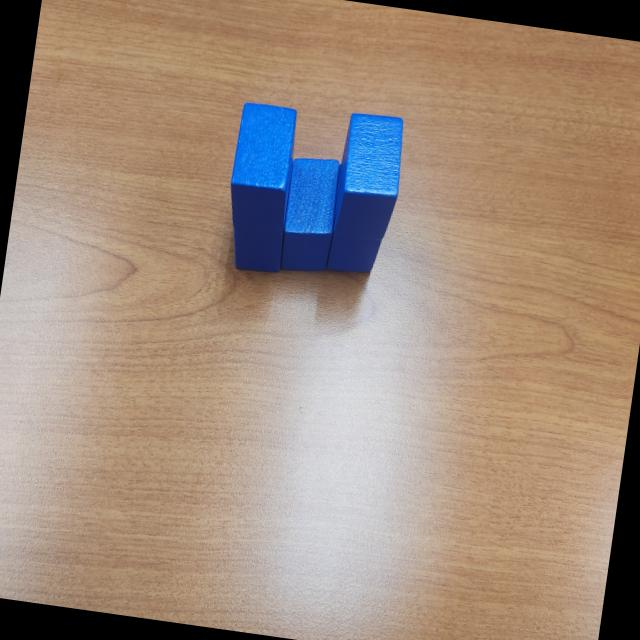blue: (224, 100, 302, 237), (330, 112, 408, 244), (278, 154, 346, 278), (323, 163, 392, 279), (228, 220, 286, 278)
